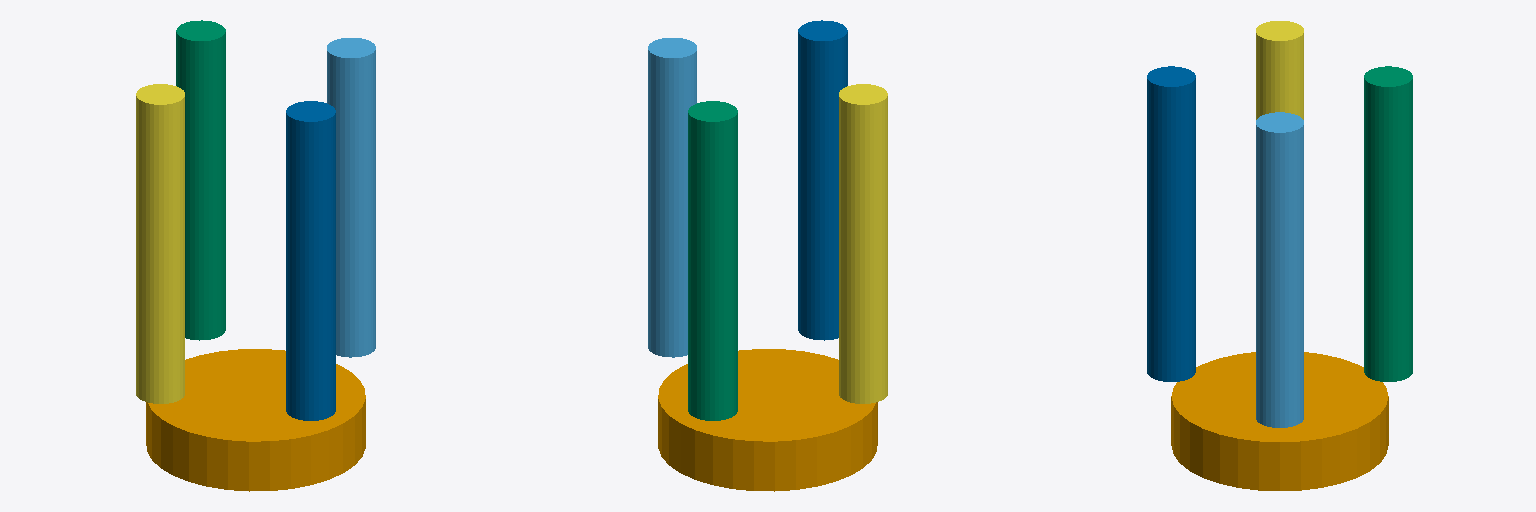
robot.urdf — Egg_Handler:
<?xml version="1.0"?>
<robot name="Egg_Handler">

    <link name="palm_link">
        <visual>
            <geometry>
                <cylinder radius="0.0200" length="0.0100"/>
            </geometry>
        </visual>
        <collision>
            <geometry>
                <cylinder radius="0.0200" length="0.0100"/>
            </geometry>
        </collision>
    </link>

    
    <link name="finger_0_link">
        <visual>
            <geometry>
                <cylinder radius="0.0045" length="0.0600"/>
            </geometry>
            <origin xyz="0 0 0.0300"/>
        </visual>
        <collision>
            <geometry>
                <cylinder radius="0.0045" length="0.0600"/>
            </geometry>
            <origin xyz="0 0 0.0300"/>
        </collision>
    </link>

    <joint name="finger_0_joint" type="revolute">
        <parent link="palm_link"/>
        <child link="finger_0_link"/>
        <origin xyz="0.0200 0.0000 0.0100" rpy="0 0 0.0000"/>
        <axis xyz="0 1 0"/>
        <limit lower="-1.57" upper="1.57" effort="10" velocity="1"/>
    </joint>

    <link name="finger_1_link">
        <visual>
            <geometry>
                <cylinder radius="0.0045" length="0.0600"/>
            </geometry>
            <origin xyz="0 0 0.0300"/>
        </visual>
        <collision>
            <geometry>
                <cylinder radius="0.0045" length="0.0600"/>
            </geometry>
            <origin xyz="0 0 0.0300"/>
        </collision>
    </link>

    <joint name="finger_1_joint" type="revolute">
        <parent link="palm_link"/>
        <child link="finger_1_link"/>
        <origin xyz="0.0000 0.0200 0.0100" rpy="0 0 1.5708"/>
        <axis xyz="0 1 0"/>
        <limit lower="-1.57" upper="1.57" effort="10" velocity="1"/>
    </joint>

    <link name="finger_2_link">
        <visual>
            <geometry>
                <cylinder radius="0.0045" length="0.0600"/>
            </geometry>
            <origin xyz="0 0 0.0300"/>
        </visual>
        <collision>
            <geometry>
                <cylinder radius="0.0045" length="0.0600"/>
            </geometry>
            <origin xyz="0 0 0.0300"/>
        </collision>
    </link>

    <joint name="finger_2_joint" type="revolute">
        <parent link="palm_link"/>
        <child link="finger_2_link"/>
        <origin xyz="-0.0200 0.0000 0.0100" rpy="0 0 3.1416"/>
        <axis xyz="0 1 0"/>
        <limit lower="-1.57" upper="1.57" effort="10" velocity="1"/>
    </joint>

    <link name="finger_3_link">
        <visual>
            <geometry>
                <cylinder radius="0.0045" length="0.0600"/>
            </geometry>
            <origin xyz="0 0 0.0300"/>
        </visual>
        <collision>
            <geometry>
                <cylinder radius="0.0045" length="0.0600"/>
            </geometry>
            <origin xyz="0 0 0.0300"/>
        </collision>
    </link>

    <joint name="finger_3_joint" type="revolute">
        <parent link="palm_link"/>
        <child link="finger_3_link"/>
        <origin xyz="-0.0000 -0.0200 0.0100" rpy="0 0 4.7124"/>
        <axis xyz="0 1 0"/>
        <limit lower="-1.57" upper="1.57" effort="10" velocity="1"/>
    </joint>

</robot>

--- Facts derived from the render (not from the file) ---
3 views of the same robot in one strip: view 1: azimuth 30°, elevation 25°; view 2: azimuth 150°, elevation 25°; view 3: azimuth 270°, elevation 25° (orthographic).
Model Egg_Handler with 5 links and 4 joints (4 revolute), rooted at palm_link, posed every joint at zero.
Visible links, largest first — view 1: palm_link, finger_3_link, finger_2_link, finger_1_link, finger_0_link; view 2: palm_link, finger_1_link, finger_2_link, finger_3_link, finger_0_link; view 3: palm_link, finger_1_link, finger_3_link, finger_0_link, finger_2_link.
Boxes of the visible links, x1,y1,x2,y2 form: palm_link: (146, 349, 365, 491); finger_3_link: (286, 101, 335, 420); finger_2_link: (136, 84, 184, 403); finger_1_link: (176, 20, 225, 340); finger_0_link: (327, 38, 375, 357); palm_link: (658, 349, 877, 491); finger_1_link: (688, 101, 737, 420); finger_2_link: (839, 84, 887, 403); finger_3_link: (798, 20, 847, 340); finger_0_link: (648, 38, 696, 357); palm_link: (1171, 352, 1388, 490); finger_1_link: (1364, 66, 1412, 381); finger_3_link: (1147, 66, 1195, 381); finger_0_link: (1256, 112, 1303, 427); finger_2_link: (1256, 21, 1303, 119).
Bounding box of the posed robot: 0.049 × 0.049 × 0.075 m (x, y, z).
Geometry: primitives only (box / cylinder / sphere), no mesh files.